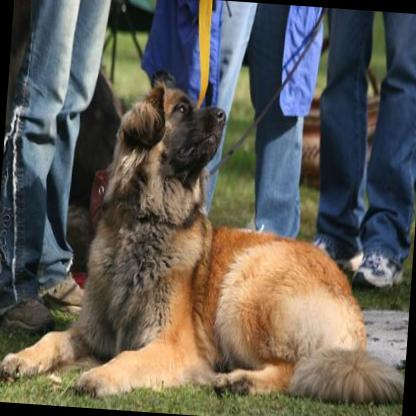Leonberg: (0, 68, 416, 416)
